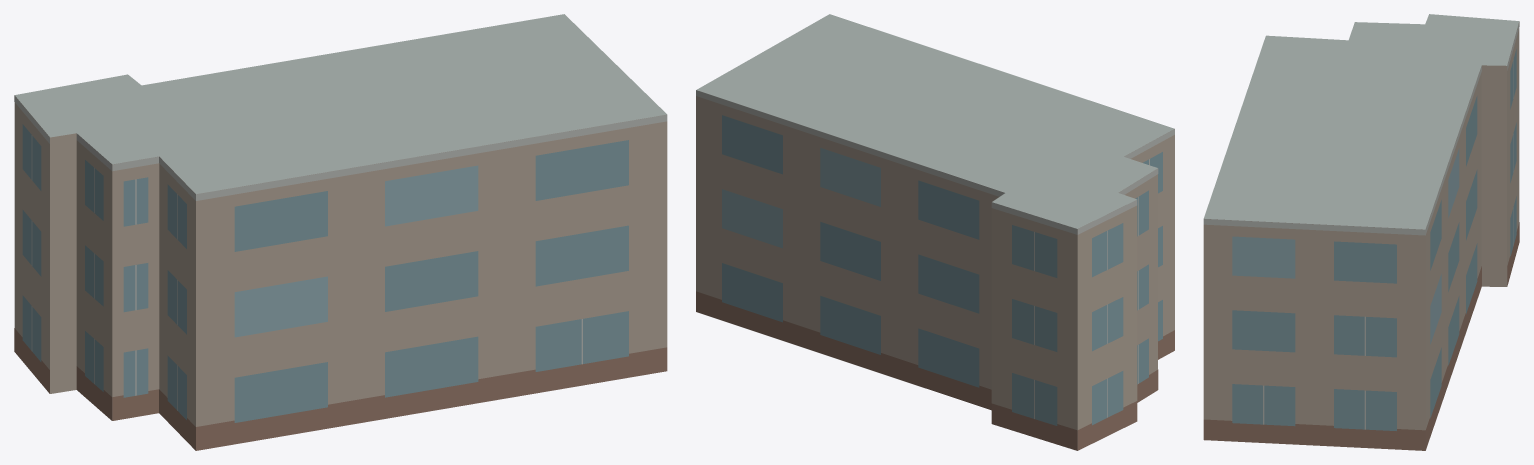
File: survey-upis-32676577.glb
The picture shows the model from 3 angles, left to right: view 1: azimuth 30°, elevation 25°; view 2: azimuth 150°, elevation 25°; view 3: azimuth 270°, elevation 25°; orthographic projection. The views are drawn at different scales.
Parts seen in each view (by area): view 1: survey-upis-32676577.tmp; view 2: survey-upis-32676577.tmp; view 3: survey-upis-32676577.tmp.
Part boxes in pixels (x1,y1,x2,y2): survey-upis-32676577.tmp: [14, 14, 667, 450]; survey-upis-32676577.tmp: [696, 14, 1174, 450]; survey-upis-32676577.tmp: [1203, 14, 1519, 450].
Bounding box in the file's own units: 19.13 × 9.15 × 11.84.
